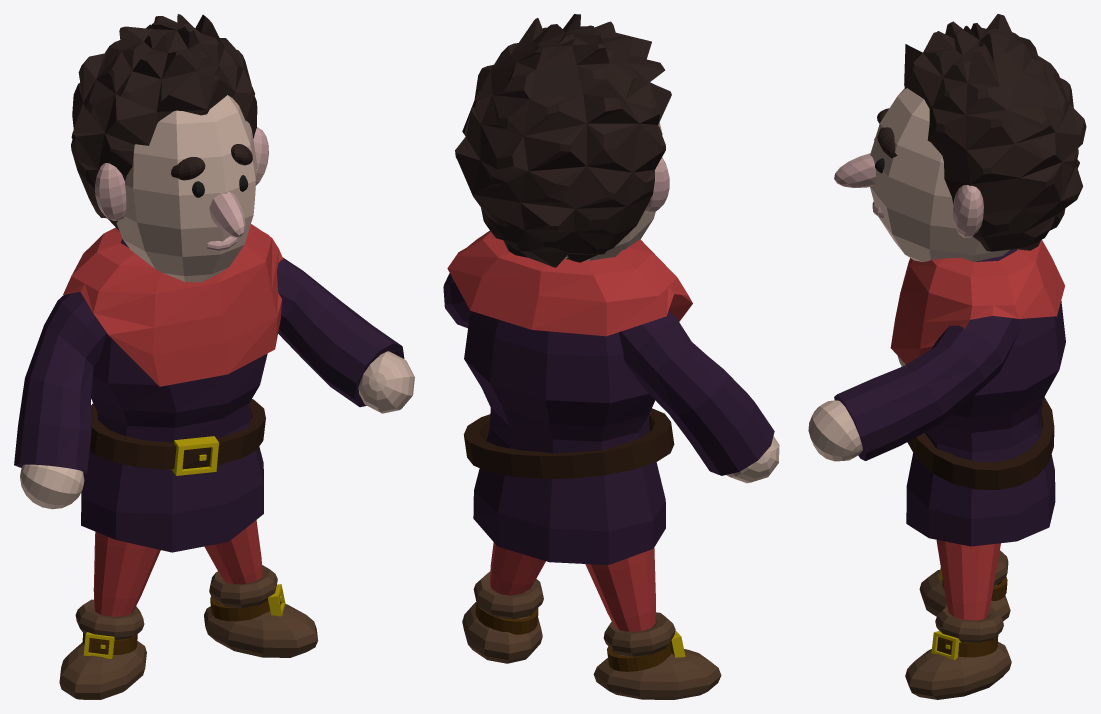
File: Character03.fbx
3 renders of one model, left to right at view 1: azimuth 30°, elevation 25°; view 2: azimuth 150°, elevation 25°; view 3: azimuth 270°, elevation 25°, orthographic. The views are drawn at different scales.
Parts seen in each view (by area): view 1: Villager02; view 2: Villager02; view 3: Villager02.
Boxes of the visible parts, x1,y1,x2,y2 form: Villager02: (14, 14, 414, 699); Villager02: (443, 14, 779, 699); Villager02: (808, 14, 1086, 699).
Size of the model in its own units: 0.2896 by 0.5096 by 0.2064.
